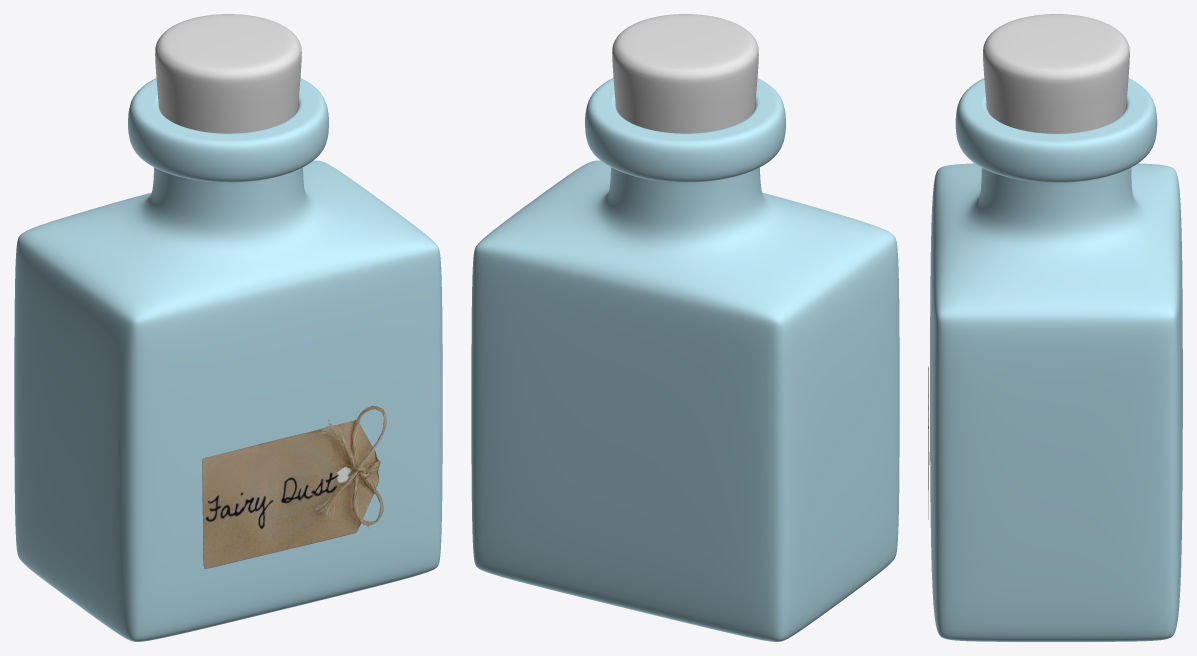
Rendered from fairy_dust_in_a_bottle.fbx.
The picture shows the model from 3 angles, left to right: view 1: azimuth 30°, elevation 25°; view 2: azimuth 150°, elevation 25°; view 3: azimuth 270°, elevation 25°; orthographic projection.
Parts seen in each view (by area): view 1: bottle, 4ac38dd7-cb68-41cb-8fcc-17712005b5f4, lid; view 2: bottle, lid; view 3: bottle, lid.
Boxes of the visible parts, x1,y1,x2,y2 form: bottle: [14, 78, 442, 641]; 4ac38dd7-cb68-41cb-8fcc-17712005b5f4: [202, 405, 386, 568]; lid: [155, 14, 301, 133]; bottle: [471, 78, 899, 641]; lid: [612, 14, 758, 133]; bottle: [930, 78, 1182, 641]; lid: [983, 14, 1129, 133].
Bounding box in the file's own units: 200 × 314 × 136.
4 materials, 2 textured.
